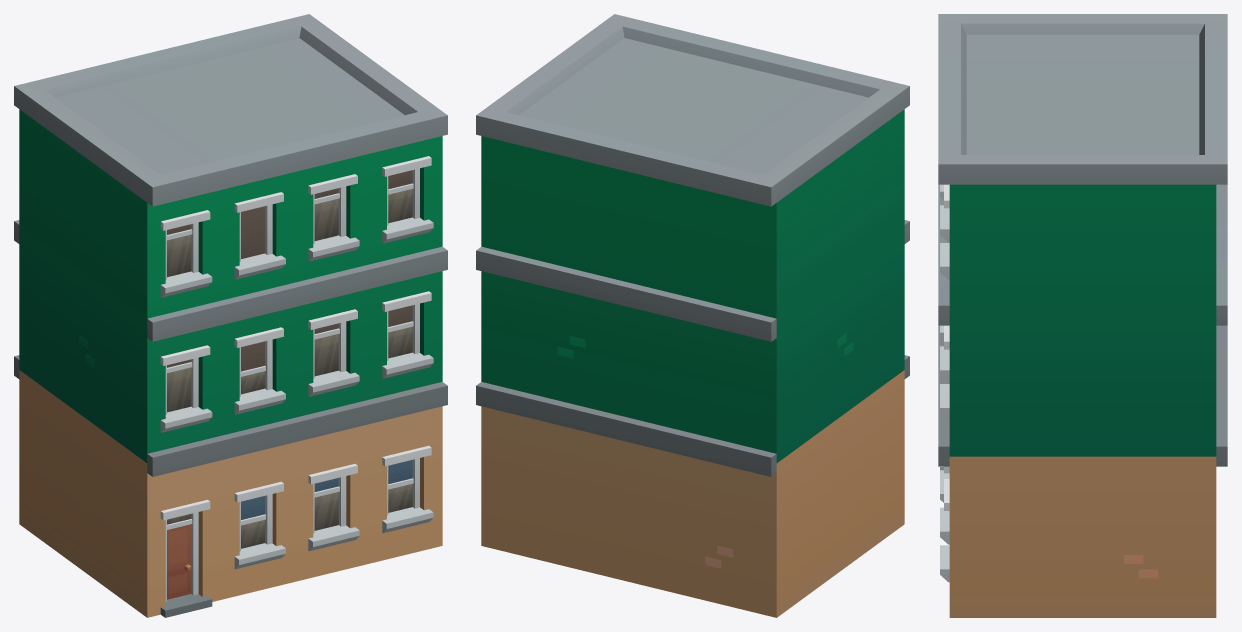
File: kay-predio-d.gltf
3 renders of one model, left to right at view 1: azimuth 30°, elevation 25°; view 2: azimuth 150°, elevation 25°; view 3: azimuth 270°, elevation 25°, orthographic. The views are drawn at different scales.
Visible parts, largest first — view 1: building_D_withoutBase; view 2: building_D_withoutBase; view 3: building_D_withoutBase.
Part boxes in pixels (<box>): building_D_withoutBase: <box>14,14,447,617</box>; building_D_withoutBase: <box>476,14,909,617</box>; building_D_withoutBase: <box>938,14,1227,617</box>.
Bounding box in the file's own units: 8.03 × 11.25 × 6.5.
Materials: 1 (1 with a texture image).
